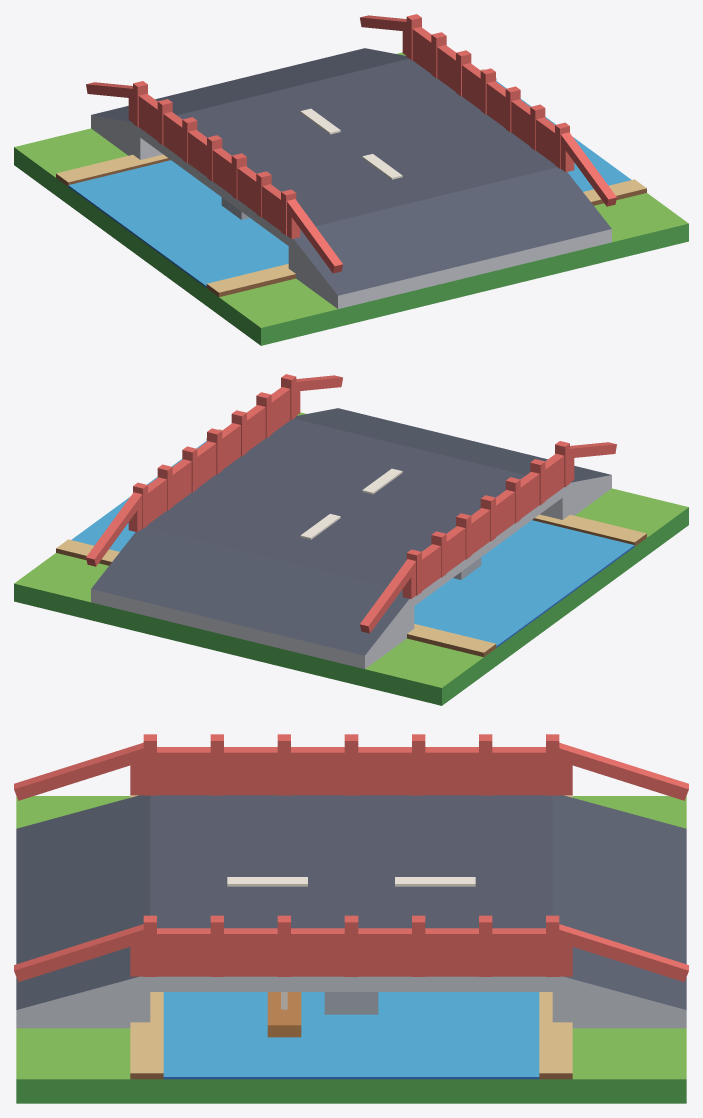
Rendered from bridge_road.glb.
The picture shows the model from 3 angles, top to bottom: view 1: azimuth 30°, elevation 25°; view 2: azimuth 150°, elevation 25°; view 3: azimuth 270°, elevation 25°; orthographic projection. The views are drawn at different scales.
Parts seen in each view (by area): view 1: bridge_road; view 2: bridge_road; view 3: bridge_road.
Part boxes in pixels (left/top/right/bottom): bridge_road: left=14, top=14, right=688, bottom=345; bridge_road: left=14, top=374, right=688, bottom=705; bridge_road: left=14, top=734, right=688, bottom=1103.
Size of the model in its own units: 1 by 0.22 by 1.01.
